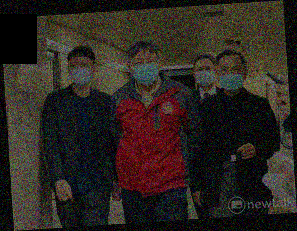with_mask: (130, 55, 161, 87), (217, 64, 247, 93), (68, 58, 94, 89), (194, 63, 217, 87)
